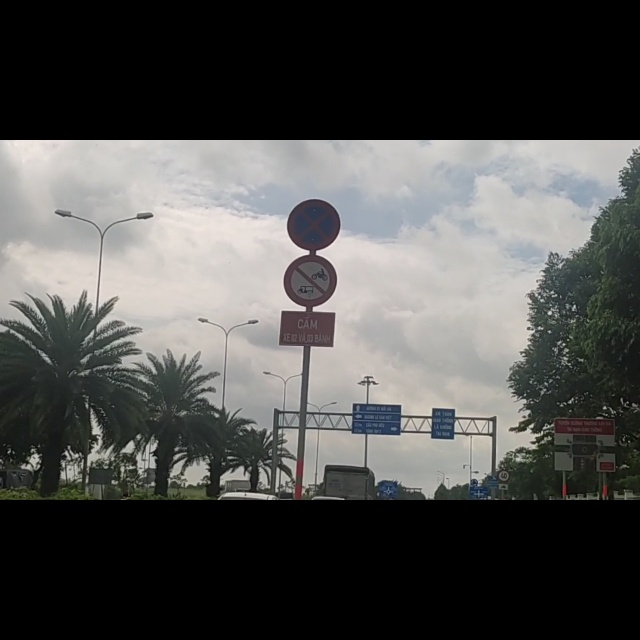bien_chi_dan: (278, 201, 337, 300), (283, 104, 342, 197)
